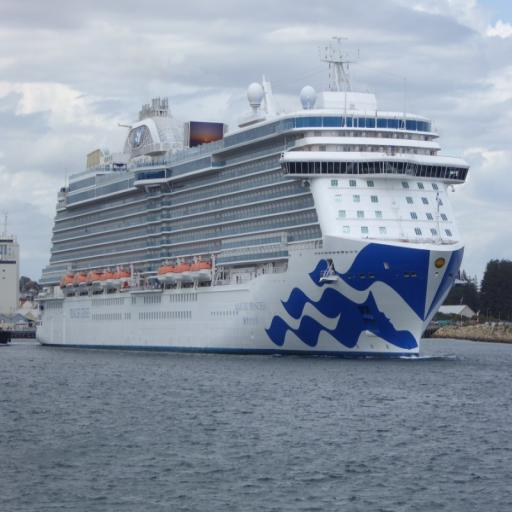cruises: (32, 34, 473, 367)
